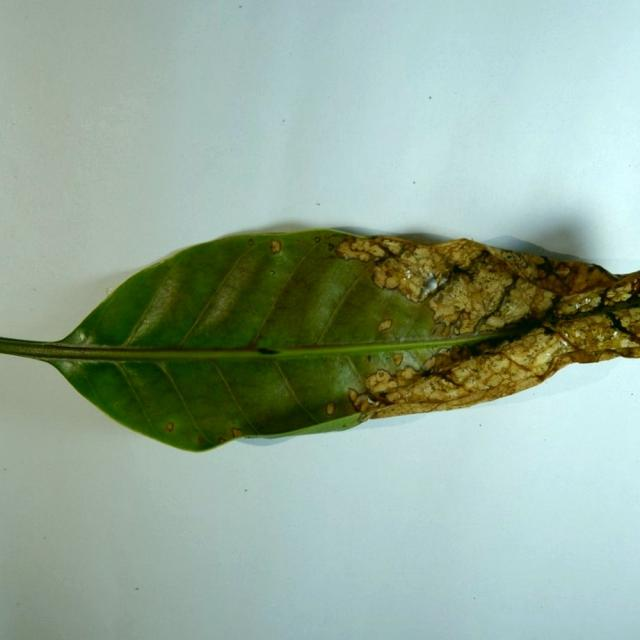Anthracnose: (361, 353, 477, 408), (549, 304, 638, 356), (474, 273, 548, 332), (483, 330, 564, 380), (421, 240, 486, 272), (374, 255, 419, 301), (429, 283, 475, 325), (555, 287, 609, 317), (333, 237, 388, 262), (365, 369, 404, 397), (421, 350, 459, 374), (312, 234, 355, 255), (348, 387, 381, 414), (604, 280, 636, 303), (537, 272, 570, 293), (483, 276, 506, 298), (372, 268, 393, 288), (214, 427, 242, 442), (485, 315, 507, 329), (511, 253, 529, 268), (432, 323, 449, 337), (413, 247, 431, 260), (491, 359, 508, 372), (377, 319, 392, 333), (435, 346, 451, 358), (423, 356, 436, 370), (555, 265, 570, 277), (373, 370, 388, 382), (348, 388, 359, 403), (270, 240, 281, 254), (530, 255, 545, 265), (393, 353, 403, 366), (325, 402, 335, 415), (537, 268, 547, 278), (165, 421, 174, 432), (197, 435, 205, 444), (324, 233, 334, 240), (247, 238, 255, 246), (313, 236, 321, 243)
Mango: (0, 228, 639, 455)
